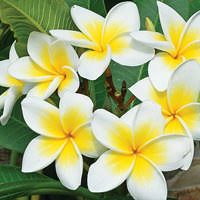frangipani: (92, 102, 191, 200)
